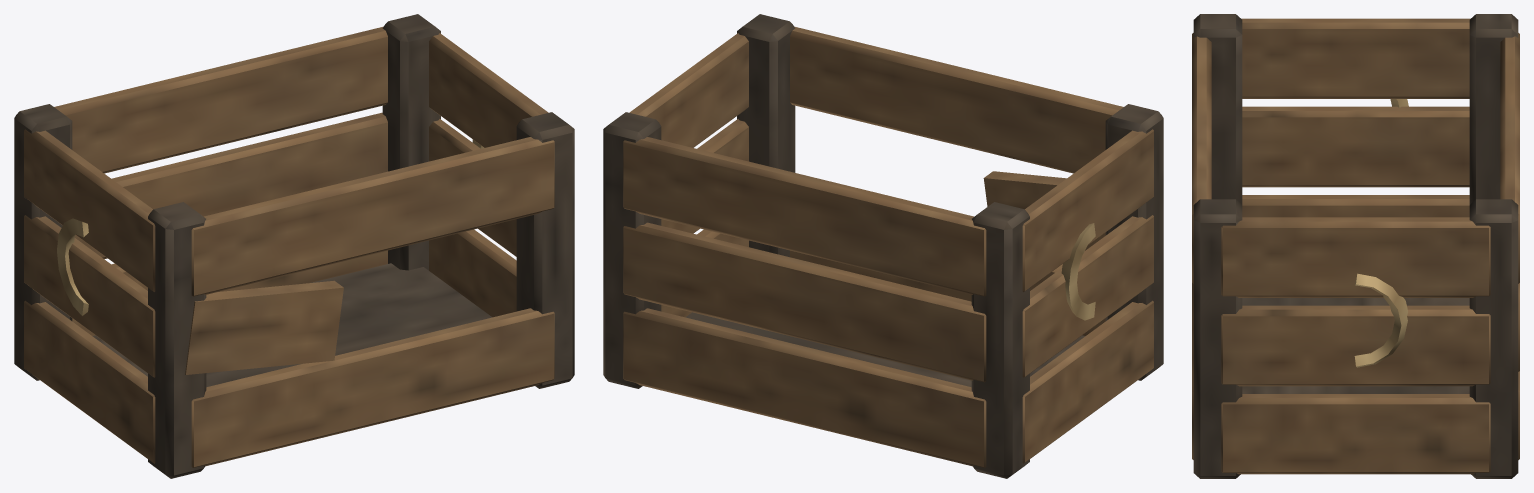
The model's file is SM_StorageBox_Damaged.fbx.
The picture shows the model from 3 angles, left to right: view 1: azimuth 30°, elevation 25°; view 2: azimuth 150°, elevation 25°; view 3: azimuth 270°, elevation 25°; orthographic projection. The views are drawn at different scales.
Visible parts, largest first — view 1: SM_StorageBox_Damaged; view 2: SM_StorageBox_Damaged; view 3: SM_StorageBox_Damaged.
Part boxes in pixels (x1,y1,x2,y2): SM_StorageBox_Damaged: (14,14,574,478); SM_StorageBox_Damaged: (603,14,1163,478); SM_StorageBox_Damaged: (1192,14,1519,478).
Size of the model in its own units: 3.13 by 1.8 by 2.02.
Materials: 1 (1 with a texture image).
